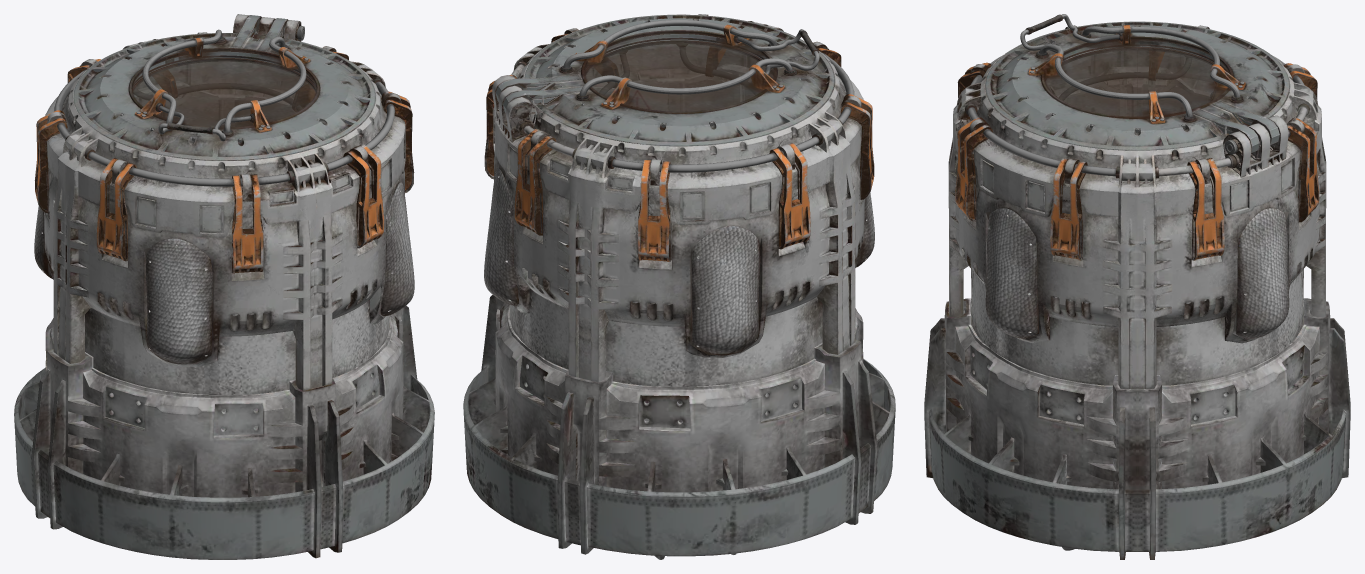
The model's file is cargo-transporter.glb.
3 views of the same model, side by side, from view 1: azimuth 30°, elevation 25°; view 2: azimuth 150°, elevation 25°; view 3: azimuth 270°, elevation 25° (orthographic). The views are drawn at different scales.
Visible parts, largest first — view 1: root; view 2: root; view 3: root.
Boxes of the visible parts, box(x1,y1,x2,y2) form: root: box(14, 14, 434, 559); root: box(463, 14, 895, 559); root: box(924, 14, 1350, 559).
Size of the model in its own units: 88.01 by 103 by 87.81.
Materials: 3 (3 with a texture image).
